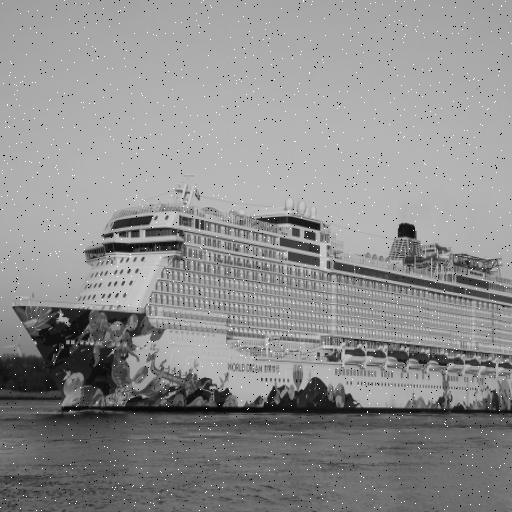cruises: (1, 165, 512, 420)
